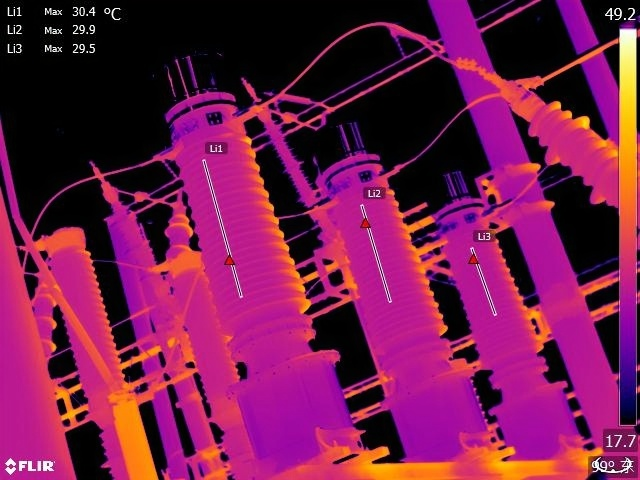circuit breaker: (47, 219, 154, 480), (170, 249, 261, 462)
current transformer: (147, 37, 333, 367), (309, 113, 488, 403), (412, 158, 554, 392)
post insulator: (518, 98, 618, 215), (266, 119, 327, 210), (121, 209, 166, 305), (161, 202, 190, 287), (33, 265, 60, 355)
switch: (509, 23, 640, 98), (96, 174, 188, 218), (255, 98, 329, 130)
